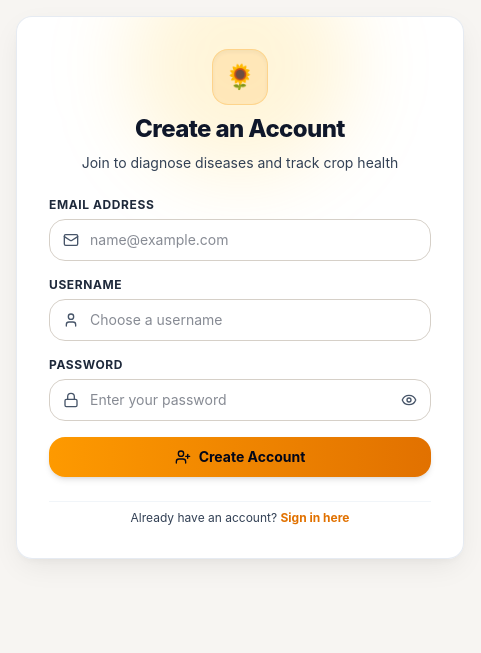
Test: Auth Forms › RegisterPage › validates invalid email format and password length
The image size is (481, 653).
Type "not-an-email" into the field labelled "Email Address" at {"x": 240, "y": 240}, box [49, 219, 431, 261]
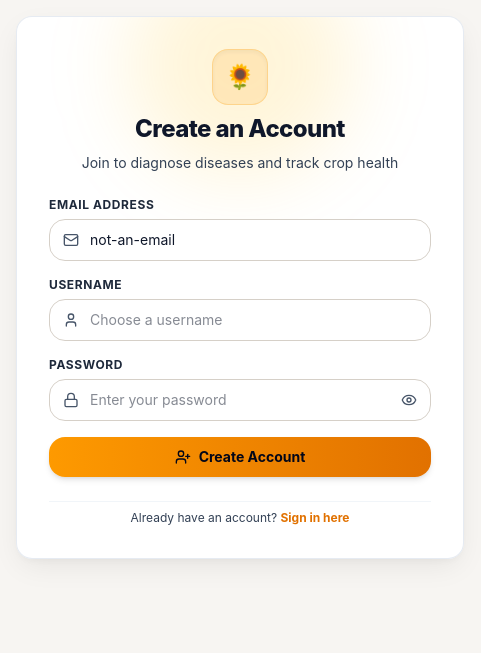
Type "us" into the field labelled "Username" at {"x": 240, "y": 320}, box [49, 299, 431, 341]
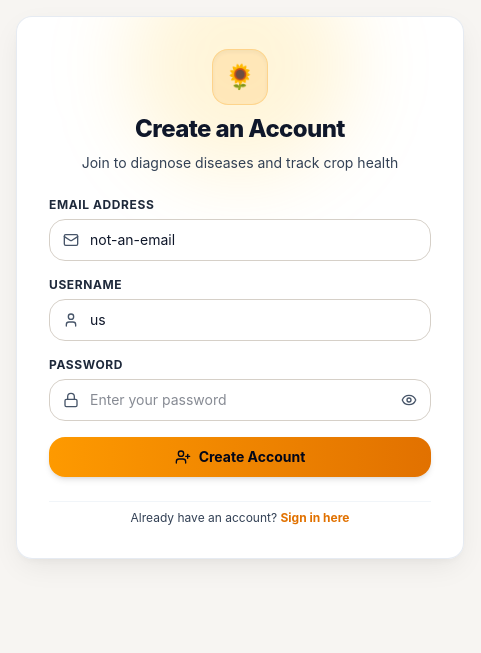
Type "short" into the password field labelled "Password" at {"x": 240, "y": 400}, box [49, 379, 431, 421]
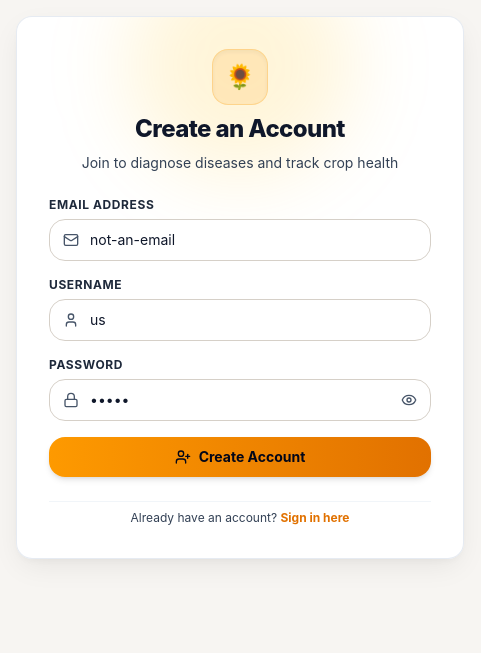
Click the button "Create Account" at {"x": 240, "y": 457}, box [49, 437, 431, 477]
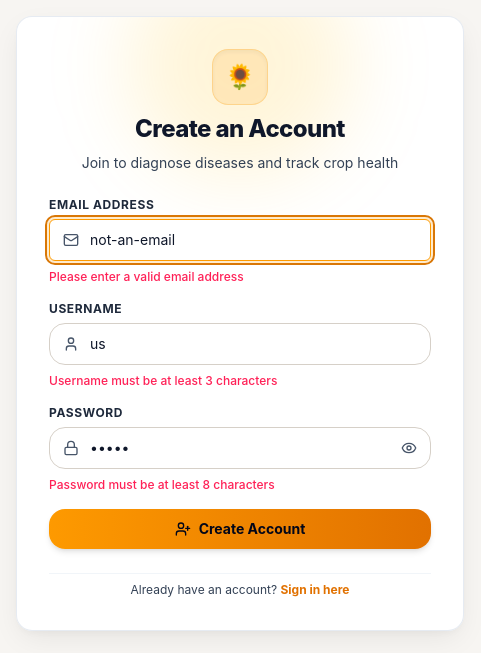
Expected: the text "Please enter a valid email address" is shown, [49, 269, 244, 284]
Expected: the text "Username must be at least 3 characters" is shown, [49, 373, 277, 388]
Expected: the text "Password must be at least 8 characters" is shown, [49, 477, 275, 492]
